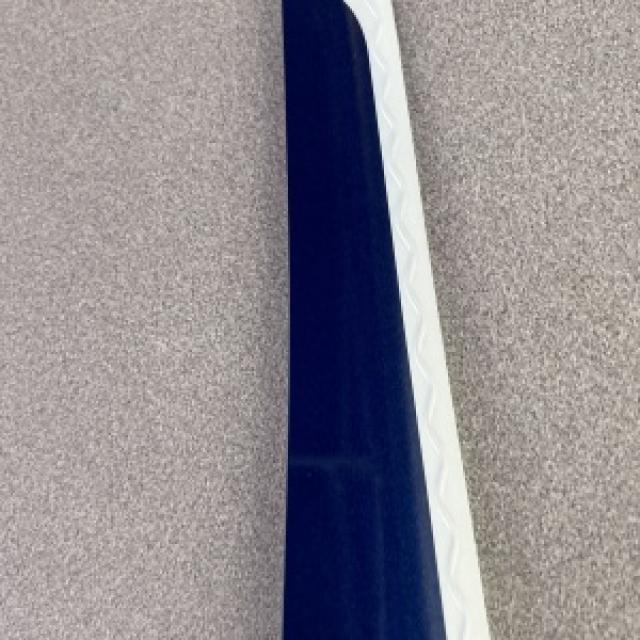healthy: (0, 0, 286, 638), (282, 0, 486, 638)
